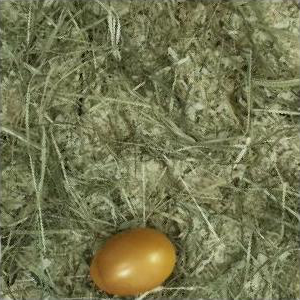egg: (90, 228, 178, 297)
